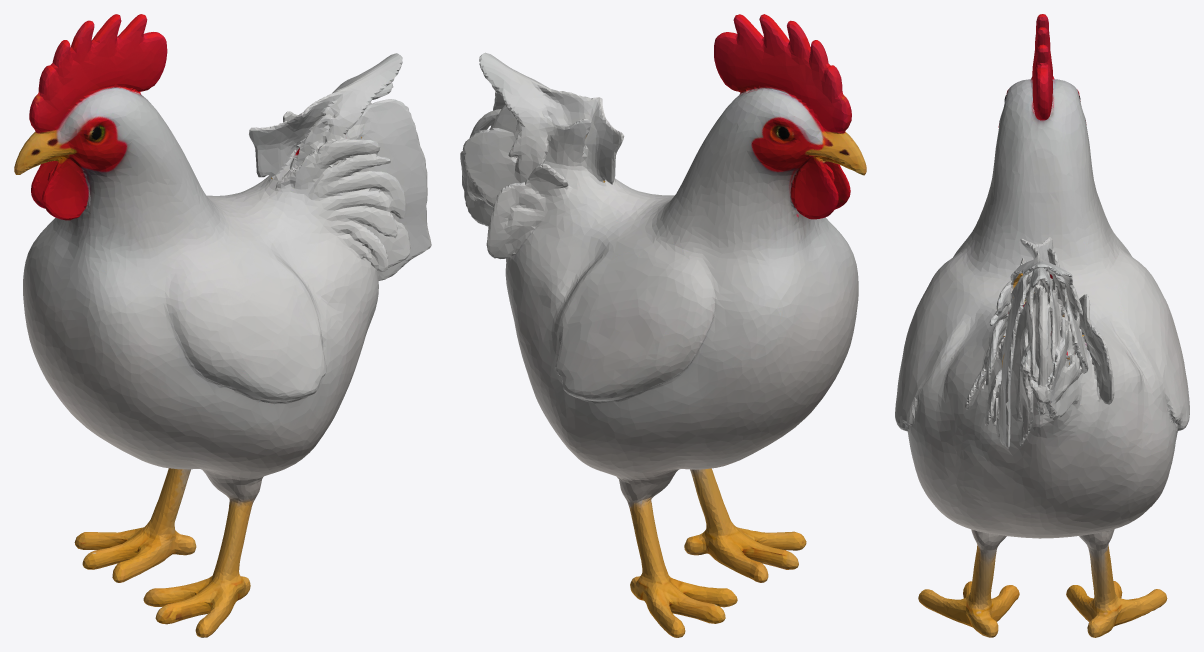
The model's file is w_chicken.glb.
3 views of the same model, side by side, from view 1: azimuth 30°, elevation 25°; view 2: azimuth 150°, elevation 25°; view 3: azimuth 270°, elevation 25° (orthographic). The views are drawn at different scales.
Visible parts, largest first — view 1: textured_mesh.obj; view 2: textured_mesh.obj; view 3: textured_mesh.obj.
Boxes of the visible parts, x1=… form: textured_mesh.obj: x1=14, y1=14, x2=431, y2=637; textured_mesh.obj: x1=460, y1=14, x2=866, y2=637; textured_mesh.obj: x1=895, y1=14, x2=1189, y2=637.
Bounding box in the file's own units: 1.44 × 1.99 × 0.9429.
Materials: 1 (1 with a texture image).
